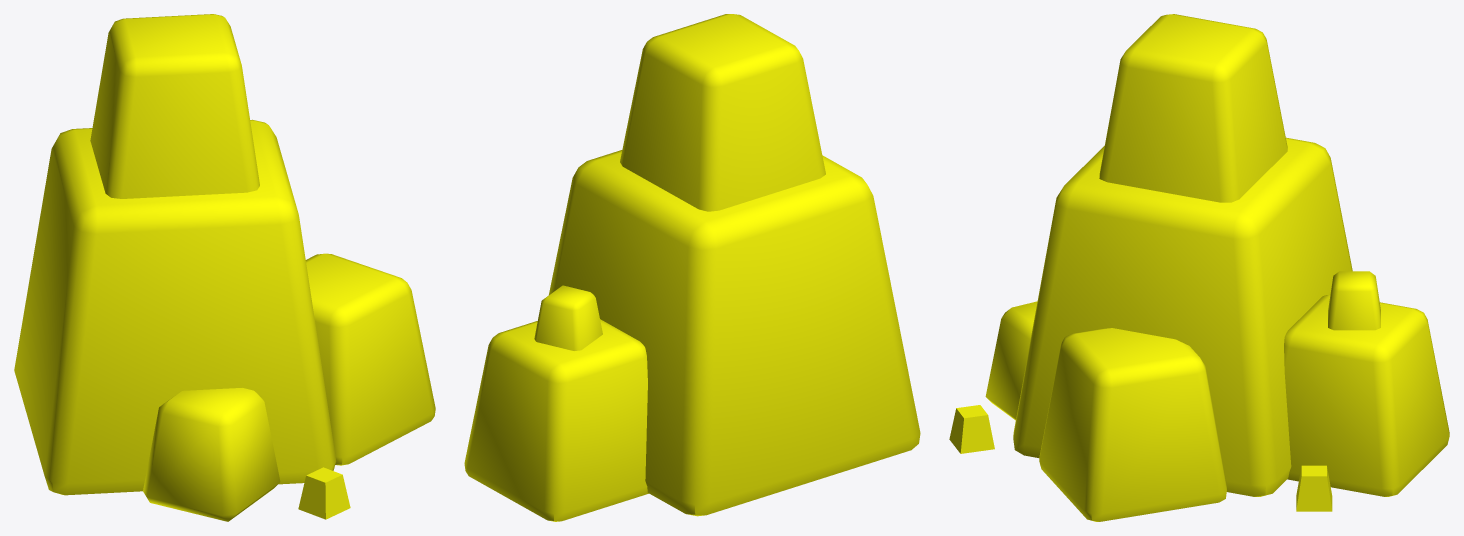
The model's file is kaykit-rock-2-g-color-1.glb.
The picture shows the model from 3 angles, left to right: view 1: azimuth 30°, elevation 25°; view 2: azimuth 150°, elevation 25°; view 3: azimuth 270°, elevation 25°; orthographic projection. The views are drawn at different scales.
Parts seen in each view (by area): view 1: Rock_2_G_Color1; view 2: Rock_2_G_Color1; view 3: Rock_2_G_Color1.
Boxes of the visible parts, bbox=[...] form: Rock_2_G_Color1: bbox=[14, 14, 435, 521]; Rock_2_G_Color1: bbox=[464, 14, 920, 521]; Rock_2_G_Color1: bbox=[949, 14, 1449, 521].
Size of the model in its own units: 3.09 by 3.2 by 3.73.
